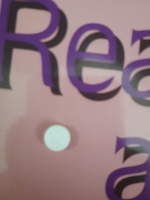Arveles: (42, 123, 71, 153)
